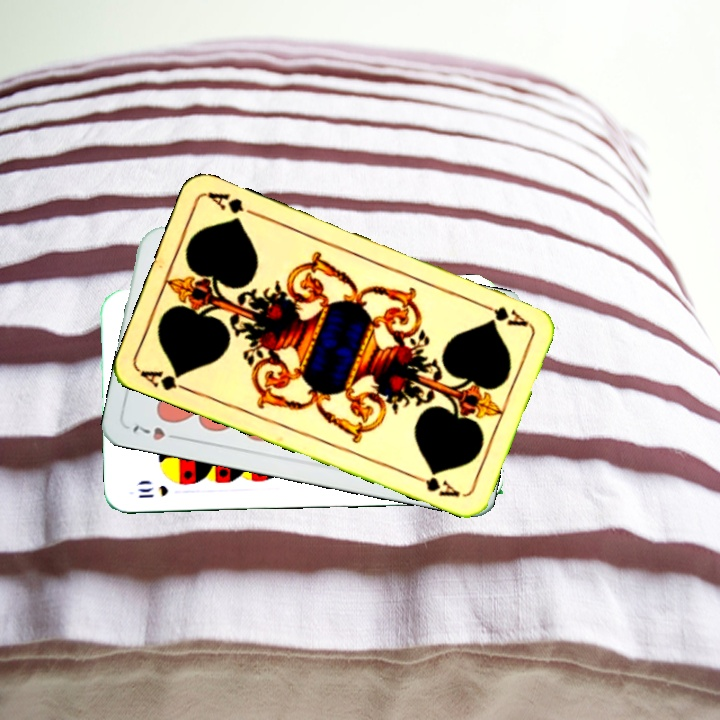GA: (474, 298, 531, 330), (136, 366, 194, 395)
H7: (128, 420, 185, 444)
S10: (134, 481, 171, 500)
